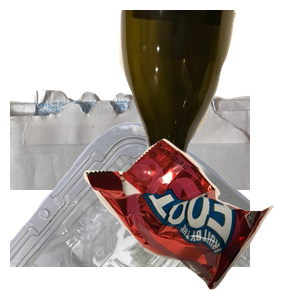glass: (117, 10, 300, 190)
paper: (10, 84, 250, 264)
plastic: (10, 120, 250, 300)
trash: (81, 136, 300, 300)
